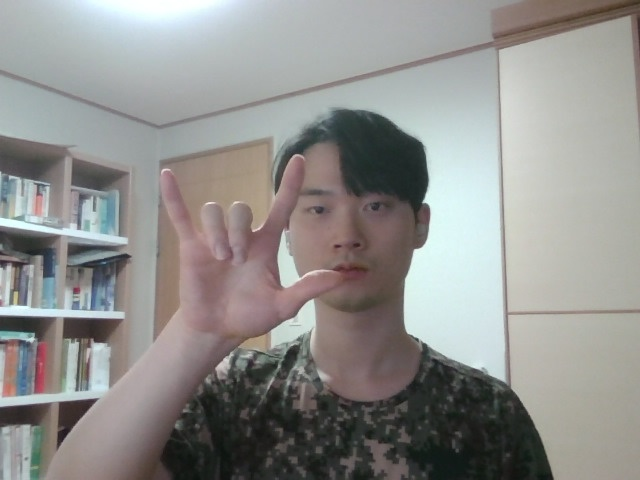iloveyou: (150, 145, 362, 369)
